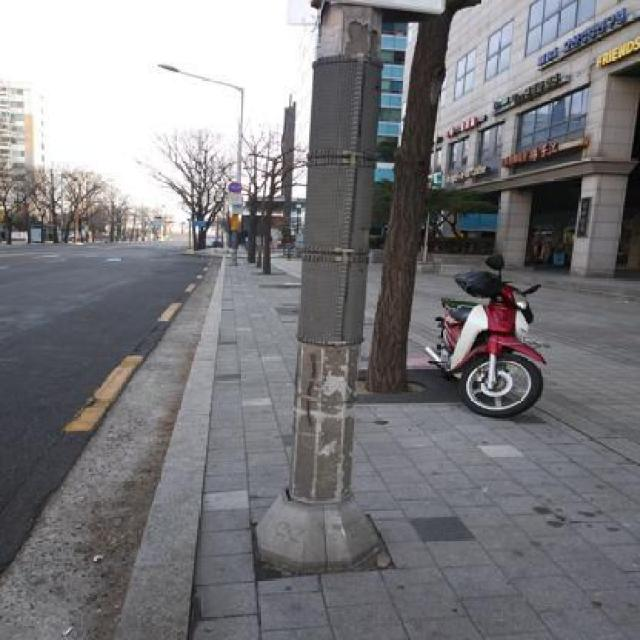pole: (243, 0, 395, 580)
